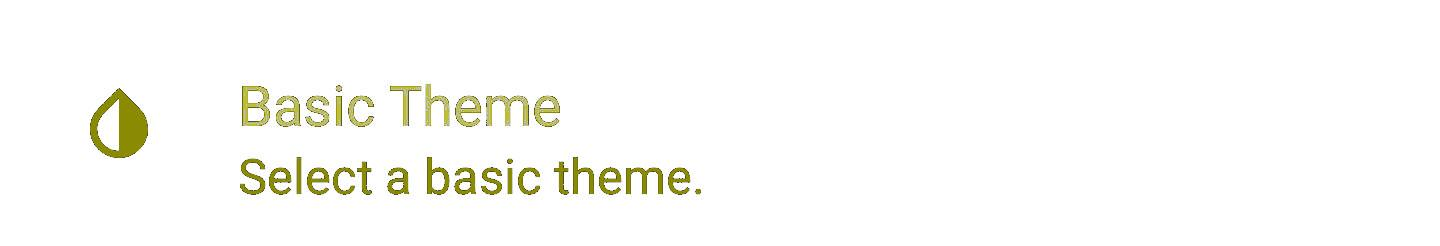CheckedTextView: (1, 1, 1439, 245)
